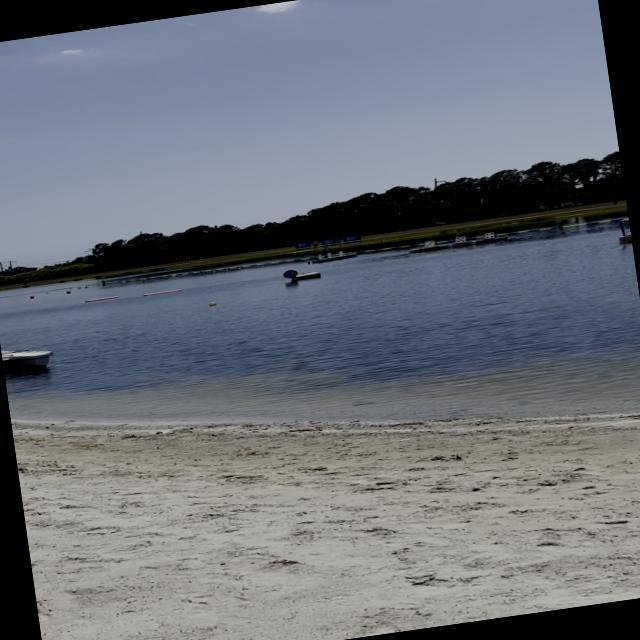buoy: (208, 301, 215, 307)
